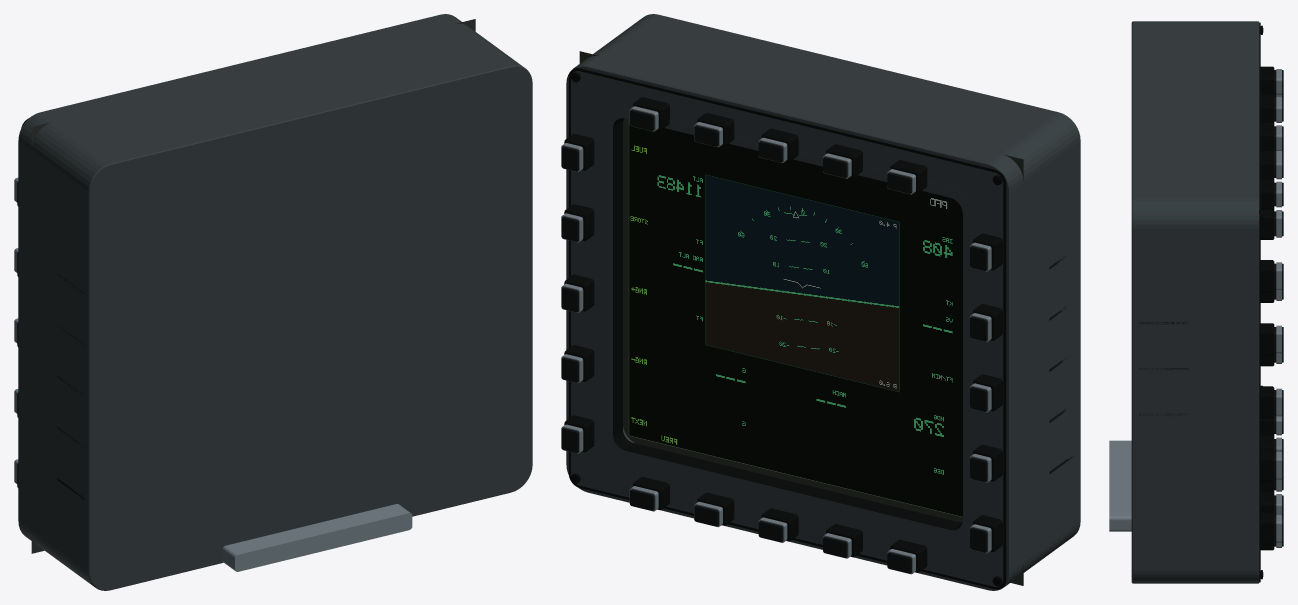
The model's file is MFDStudio.obj.
3 views of the same model, side by side, from view 1: azimuth 30°, elevation 25°; view 2: azimuth 150°, elevation 25°; view 3: azimuth 270°, elevation 25° (orthographic). The views are drawn at different scales.
Parts seen in each view (by area): view 1: MFDStudioBody; view 2: MFDStudioBody, MFDStudioScreen; view 3: MFDStudioBody.
Part boxes in pixels (box(x1,y1,x2,y2)): MFDStudioBody: box(14, 14, 532, 590); MFDStudioBody: box(561, 14, 1080, 590); MFDStudioScreen: box(579, 51, 1023, 585); MFDStudioBody: box(1109, 21, 1281, 583).
Size of the model in its own units: 0.245 by 0.225 by 0.093.
8 materials, 1 textured.
